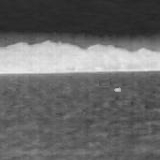Target: (113, 87, 122, 93)
